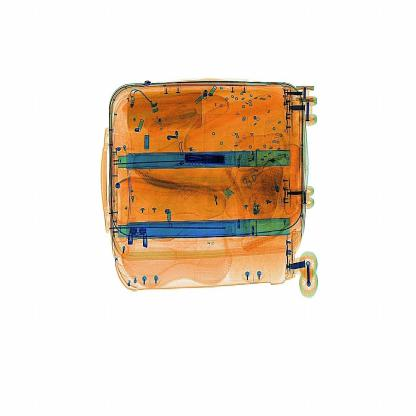scissors: (177, 142, 237, 176)
